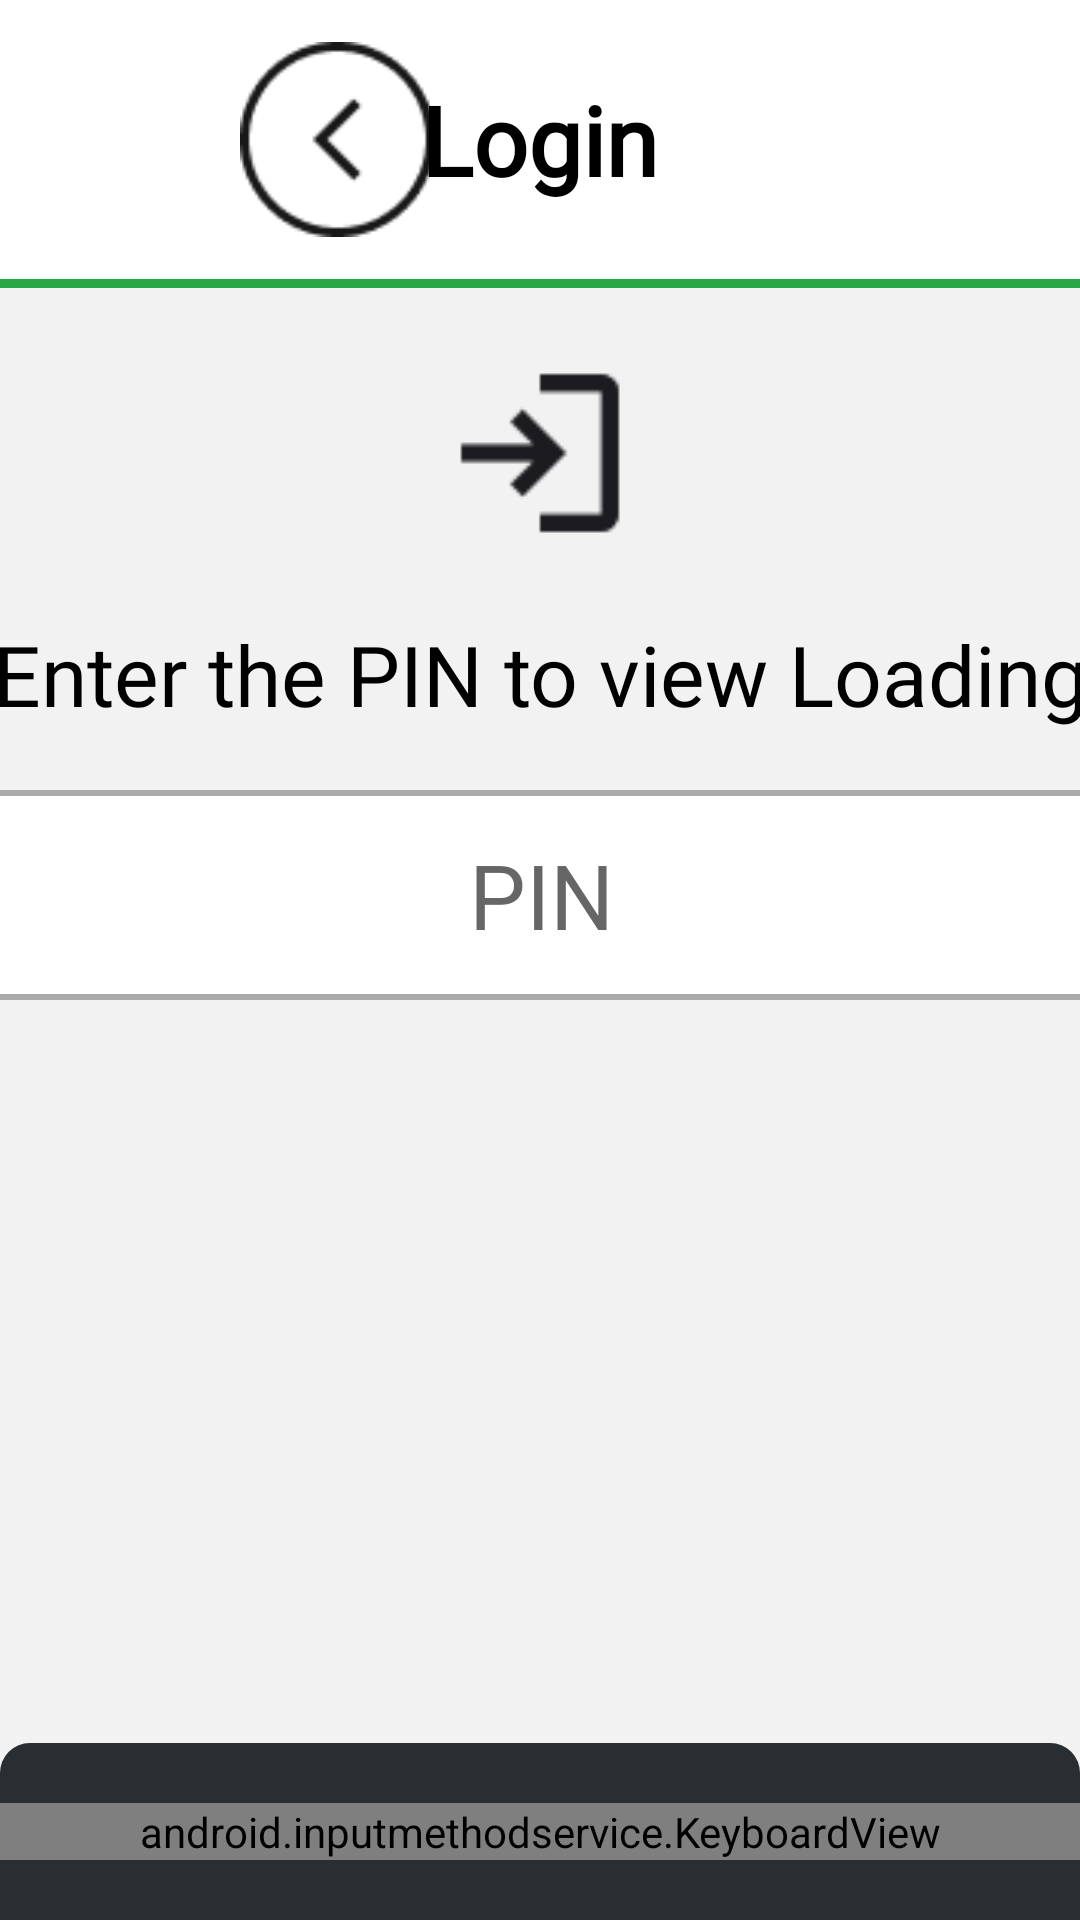

Icon click points for this 1080w x 1920h phone screenshot, format (x,y):
back: (356,139)
